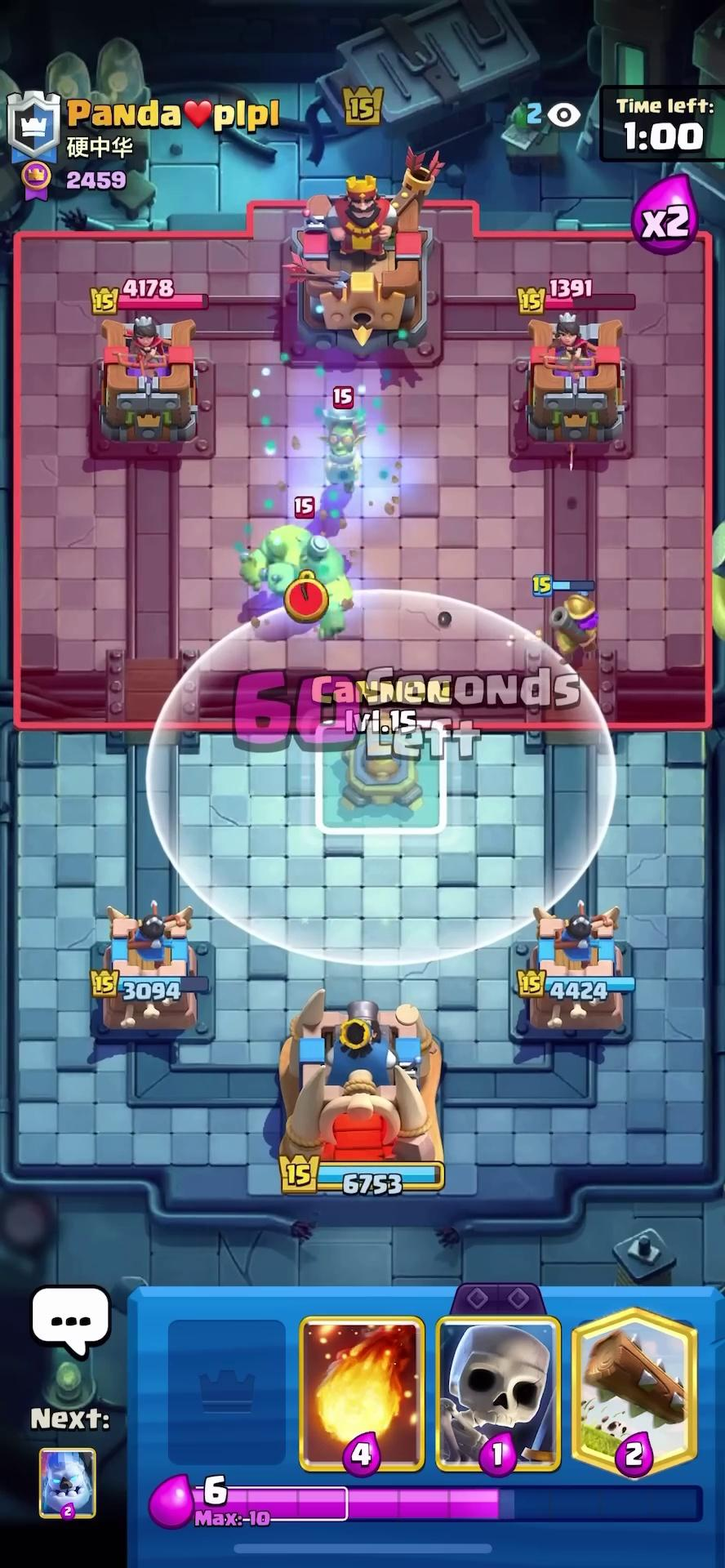musketeer: (529, 582, 618, 664)
